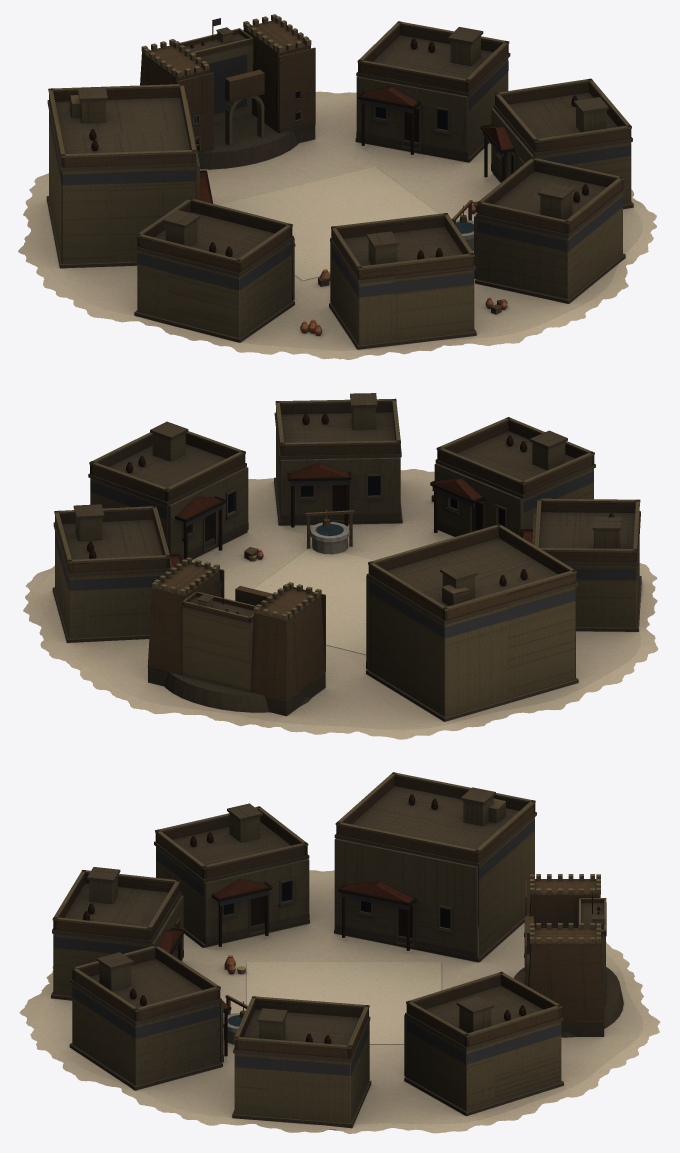
File: classical-town-small-a-steppe-42185c46.glb
The picture shows the model from 3 angles, top to bottom: view 1: azimuth 30°, elevation 25°; view 2: azimuth 150°, elevation 25°; view 3: azimuth 270°, elevation 25°; orthographic projection.
Visible parts, largest first — view 1: LOD0; view 2: LOD0; view 3: LOD0.
Part boxes in pixels (x1,y1,x2,y2): LOD0: [18, 14, 656, 359]; LOD0: [23, 393, 658, 739]; LOD0: [19, 772, 660, 1133].
Size of what is drawn, in the model's own units: 3.95 by 0.8685 by 4.03.
Materials: 3 (3 with a texture image).
